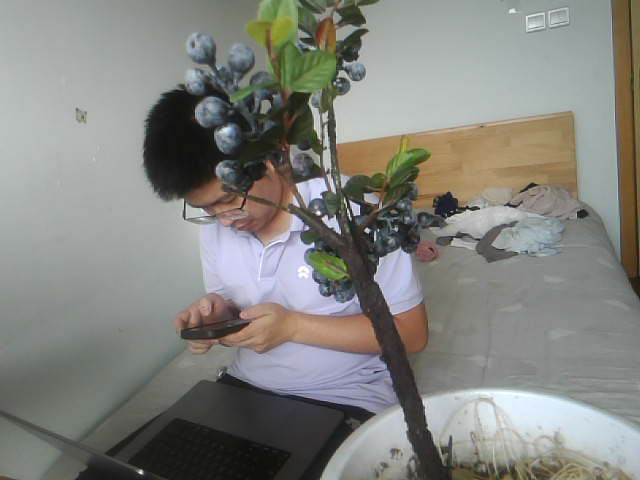blueberry: (180, 34, 220, 65), (212, 155, 247, 186), (194, 93, 228, 124), (226, 41, 253, 71), (207, 126, 239, 148), (179, 66, 204, 94), (291, 158, 314, 187), (377, 230, 402, 256), (250, 76, 273, 98), (329, 71, 347, 99), (303, 198, 330, 216), (346, 56, 363, 80), (313, 85, 326, 112), (336, 281, 353, 301), (314, 281, 331, 300), (396, 201, 418, 213), (402, 215, 416, 230), (421, 212, 431, 226)
